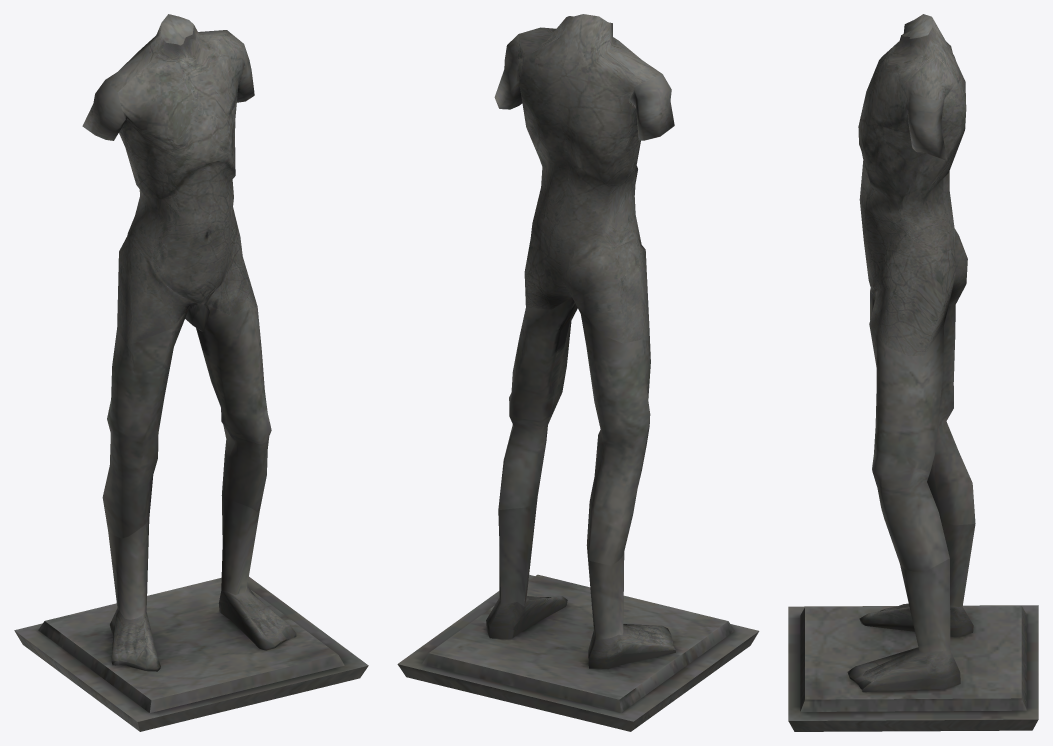
File: deformed_man_noHead.dae
3 renders of one model, left to right at view 1: azimuth 30°, elevation 25°; view 2: azimuth 150°, elevation 25°; view 3: azimuth 270°, elevation 25°, orthographic. The views are drawn at different scales.
Parts seen in each view (by area): view 1: polySurface24; view 2: polySurface24; view 3: polySurface24.
Boxes of the visible parts, left/top/right/bottom form: polySurface24: left=14, top=14, right=368, bottom=731; polySurface24: left=397, top=14, right=759, bottom=731; polySurface24: left=788, top=14, right=1038, bottom=731.
Bounding box in the file's own units: 0.7076 × 1.89 × 0.6538.
